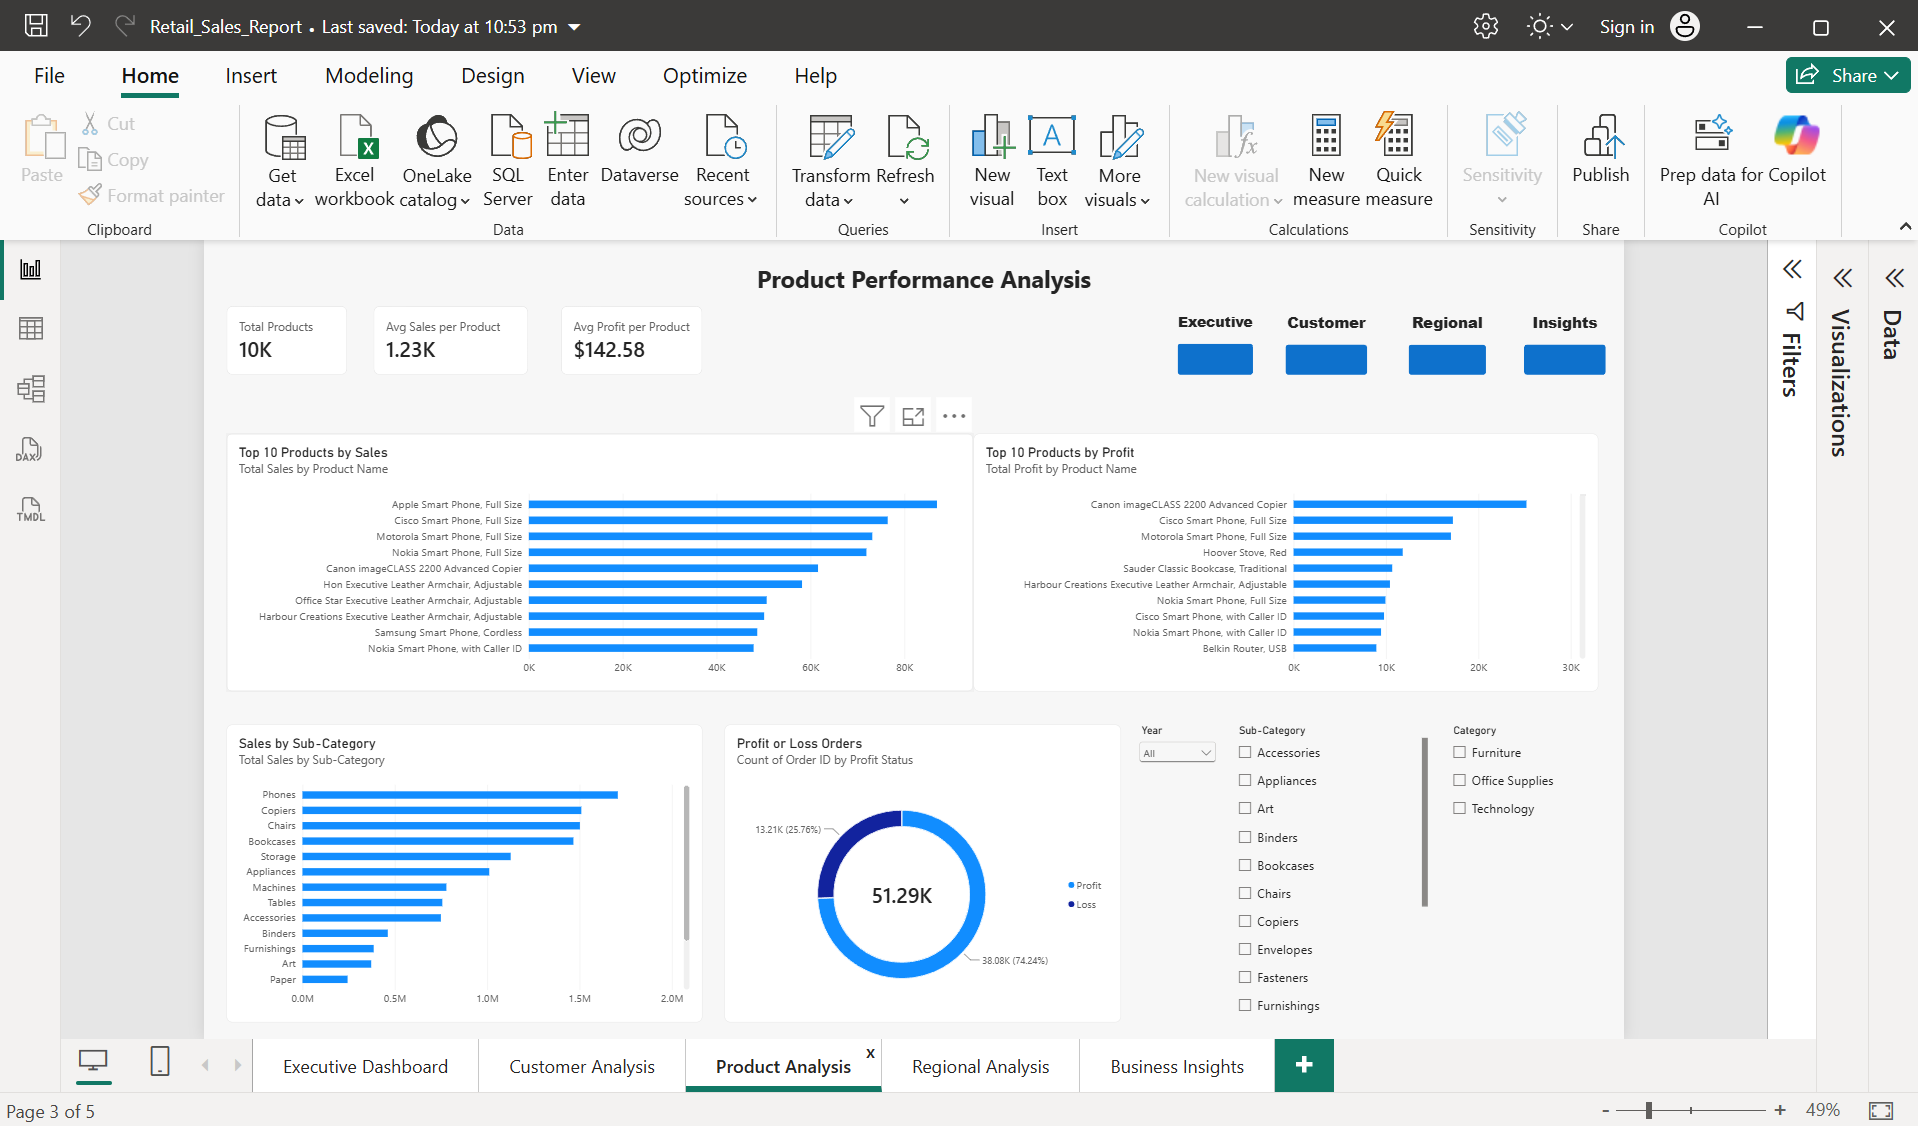

What the dashboard file says about the page in this screenshot:
{"tool":"powerbi","page":{"name":"Product Analysis","canvas":[1920,1080],"ordinal":2},"visuals":[{"type":"textbox","box":[0,30.3,1884.3,72.3],"z":0},{"type":"cardVisual","fields":{"Data":["Sheet1.Total Products"]},"box":[30.3,88.6,163.2,93.3],"z":1000},{"type":"cardVisual","fields":{"Data":["Sheet1.Avg Sales per Product"]},"box":[228.5,88.6,209.9,93.3],"z":2000},{"type":"cardVisual","fields":{"Data":["Sheet1.Avg Profit per Product"]},"box":[482.7,88.6,191.2,93.3],"z":3000},{"type":"clusteredBarChart","title":"Top 10 Products by Sales","fields":{"Category":["Sheet1.Product Name"],"Y":["Sheet1.Total Sales"]},"box":[31.2,260.8,1009.1,348.7],"z":4000},{"type":"clusteredBarChart","title":"Top 10 Products by Profit","fields":{"Category":["Sheet1.Product Name"],"Y":["Sheet1.Total Profit"]},"box":[1040.3,260.8,844.7,348.7],"z":5000},{"type":"donutChart","title":"Profit or Loss Orders","fields":{"Category":["Sheet1.Profit Status"],"Y":["CountNonNull(Sheet1.Order ID)"]},"box":[703,654.8,535.8,402.5],"z":6000},{"type":"clusteredBarChart","title":"Sales by Sub-Category","fields":{"Category":["Sheet1.Sub-Category"],"Y":["Sheet1.Total Sales"]},"box":[31.2,654.8,643.5,402.5],"z":7000},{"type":"slicer","fields":{"Values":["Sheet1.Year"]},"box":[1258.6,654.8,113.4,402.5],"z":8000},{"type":"slicer","fields":{"Values":["Sheet1.Sub-Category"]},"box":[1391.8,654.8,263.6,402.5],"z":9000},{"type":"slicer","fields":{"Values":["Sheet1.Category"]},"box":[1681,654.8,204.1,402.5],"z":10000},{"type":"actionButton","title":"Insights","box":[1784,97.9,110.6,85],"z":11000},{"type":"actionButton","title":"Regional","box":[1627.7,97.9,104.9,85],"z":12000},{"type":"actionButton","title":"Customer","box":[1462.2,97.9,110.6,85],"z":13000},{"type":"actionButton","title":"Executive","box":[1315.2,97.9,102,85],"z":14000}]}

Visuals, with their boxes on the page's 1920x1080 design canvas (x1, y1, x2, y2). These are canvas units, not pixel positions in the 1918x1126 screenshot, which may show the page scaled, cropped or inside an application window:
textbox: rect(0, 30, 1884, 103)
cardVisual - Sheet1.Total Products: rect(30, 89, 194, 182)
cardVisual - Sheet1.Avg Sales per Product: rect(228, 89, 438, 182)
cardVisual - Sheet1.Avg Profit per Product: rect(483, 89, 674, 182)
"Top 10 Products by Sales" clusteredBarChart: rect(31, 261, 1040, 610)
"Top 10 Products by Profit" clusteredBarChart: rect(1040, 261, 1885, 610)
"Profit or Loss Orders" donutChart: rect(703, 655, 1239, 1057)
"Sales by Sub-Category" clusteredBarChart: rect(31, 655, 675, 1057)
slicer - Sheet1.Year: rect(1259, 655, 1372, 1057)
slicer - Sheet1.Sub-Category: rect(1392, 655, 1655, 1057)
slicer - Sheet1.Category: rect(1681, 655, 1885, 1057)
"Insights" actionButton: rect(1784, 98, 1895, 183)
"Regional" actionButton: rect(1628, 98, 1733, 183)
"Customer" actionButton: rect(1462, 98, 1573, 183)
"Executive" actionButton: rect(1315, 98, 1417, 183)
